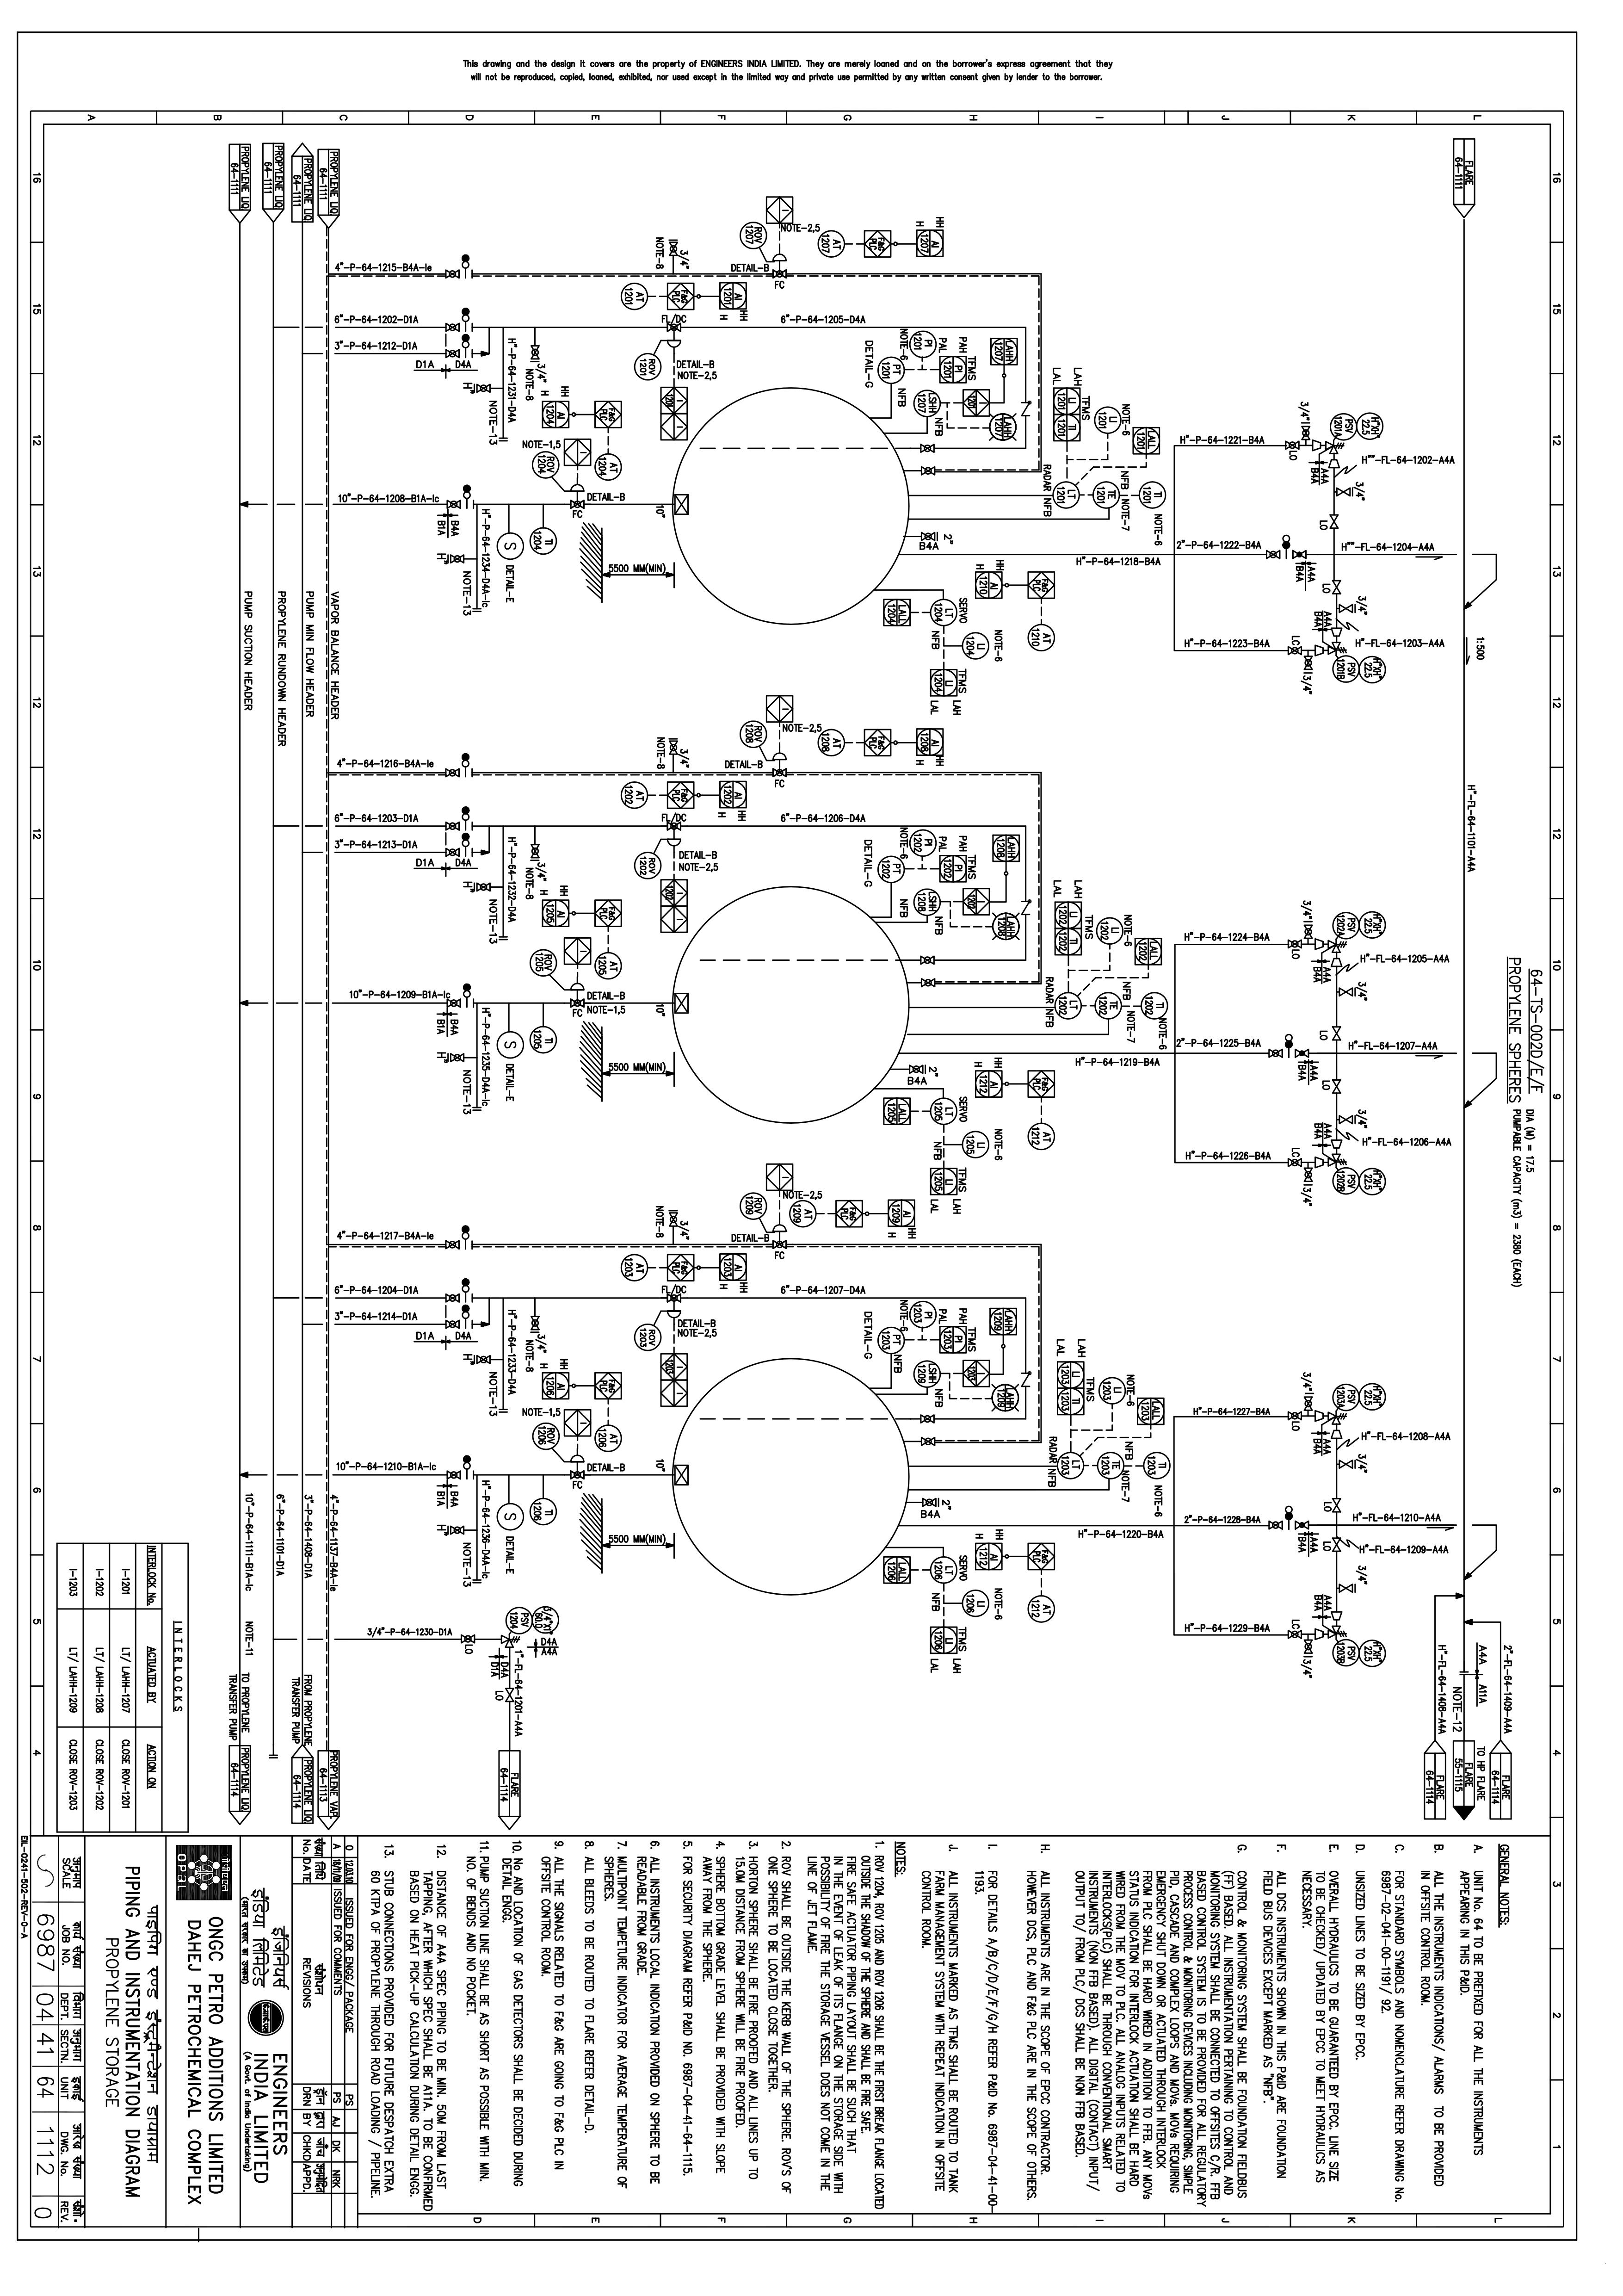ball valve: (1335, 1453, 1370, 1474), (915, 949, 943, 970), (913, 1432, 945, 1449), (1296, 420, 1316, 444), (915, 523, 941, 541), (525, 341, 545, 364), (439, 762, 462, 782), (1333, 481, 1356, 501), (1337, 1579, 1361, 1597), (660, 822, 690, 836), (1279, 1154, 1305, 1170), (446, 1047, 469, 1065), (915, 975, 938, 993), (1324, 511, 1342, 534), (912, 441, 940, 455), (441, 267, 465, 283), (439, 318, 464, 334), (457, 1630, 481, 1646), (1333, 599, 1358, 615), (474, 378, 495, 395), (1298, 1393, 1316, 1414), (915, 464, 941, 478), (439, 843, 462, 859), (527, 1314, 543, 1337), (905, 1061, 927, 1077), (1338, 982, 1354, 1005), (1330, 1077, 1345, 1100), (666, 1207, 680, 1231), (562, 497, 587, 511), (1266, 1043, 1286, 1061), (441, 817, 462, 833), (441, 1235, 462, 1251), (446, 1521, 467, 1537), (1337, 1112, 1358, 1128), (915, 1412, 941, 1425), (441, 346, 464, 360), (1328, 1024, 1342, 1047), (1282, 645, 1305, 659), (1300, 655, 1317, 673), (1263, 1518, 1288, 1530), (1282, 1628, 1307, 1641), (443, 497, 464, 511), (441, 1289, 462, 1303), (1284, 1409, 1305, 1423), (1303, 1635, 1317, 1657), (769, 269, 792, 281), (662, 1291, 685, 1303), (1330, 1493, 1342, 1516), (1300, 919, 1312, 942), (1293, 1047, 1316, 1059), (1282, 439, 1305, 451), (1261, 550, 1284, 562), (662, 323, 689, 334), (567, 994, 587, 1008), (443, 1316, 462, 1330), (444, 1467, 464, 1481), (1286, 938, 1305, 952), (443, 998, 464, 1010), (1288, 548, 1312, 559), (476, 1351, 494, 1365), (1328, 1537, 1342, 1555), (919, 1495, 941, 1505), (448, 553, 467, 566), (1293, 1520, 1312, 1532), (1331, 578, 1344, 597), (566, 1469, 587, 1479), (769, 1238, 790, 1249), (504, 1686, 515, 1706), (769, 768, 789, 778), (476, 880, 492, 892)
